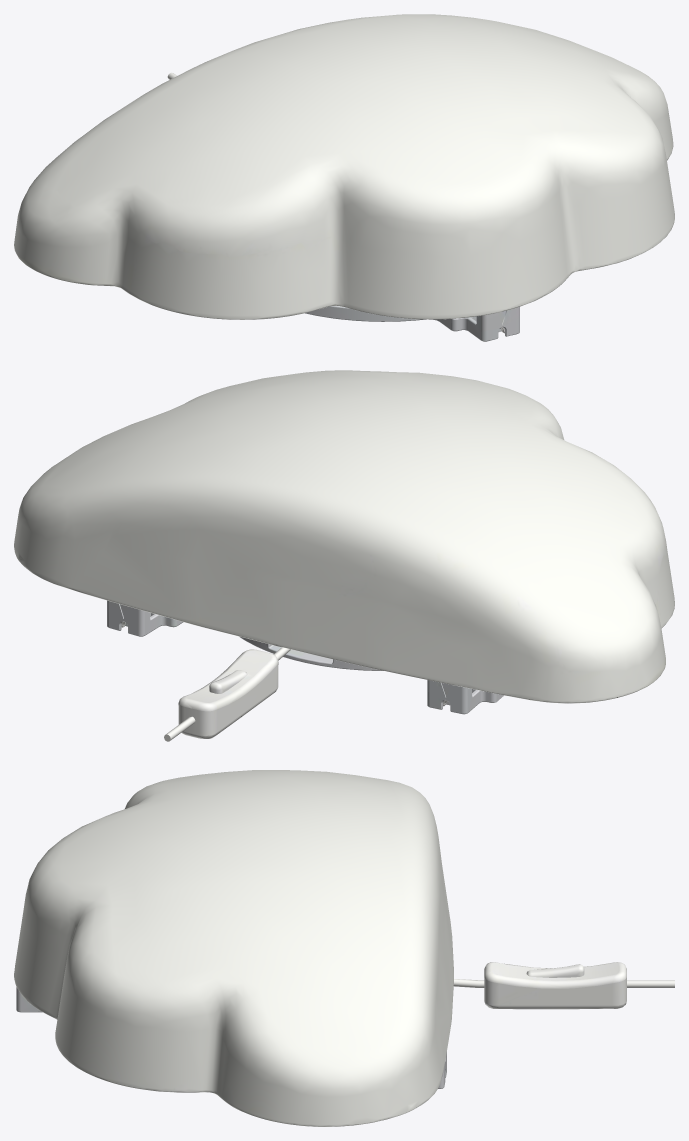
File: upplyst_lampa_scienna_led_30424516.glb
The picture shows the model from 3 angles, top to bottom: view 1: azimuth 30°, elevation 25°; view 2: azimuth 150°, elevation 25°; view 3: azimuth 270°, elevation 25°; orthographic projection. The views are drawn at different scales.
Visible parts, largest first — view 1: upplyst_lampa_scienna_led_30424516; view 2: upplyst_lampa_scienna_led_30424516; view 3: upplyst_lampa_scienna_led_30424516.
Boxes of the visible parts, x1,y1,x2,y2 form: upplyst_lampa_scienna_led_30424516: (14,14,674,341); upplyst_lampa_scienna_led_30424516: (14,370,674,741); upplyst_lampa_scienna_led_30424516: (14,770,674,1126).
Bounding box in the file's own units: 0.2998 × 0.0825 × 0.2777.
2 materials, 2 textured.
